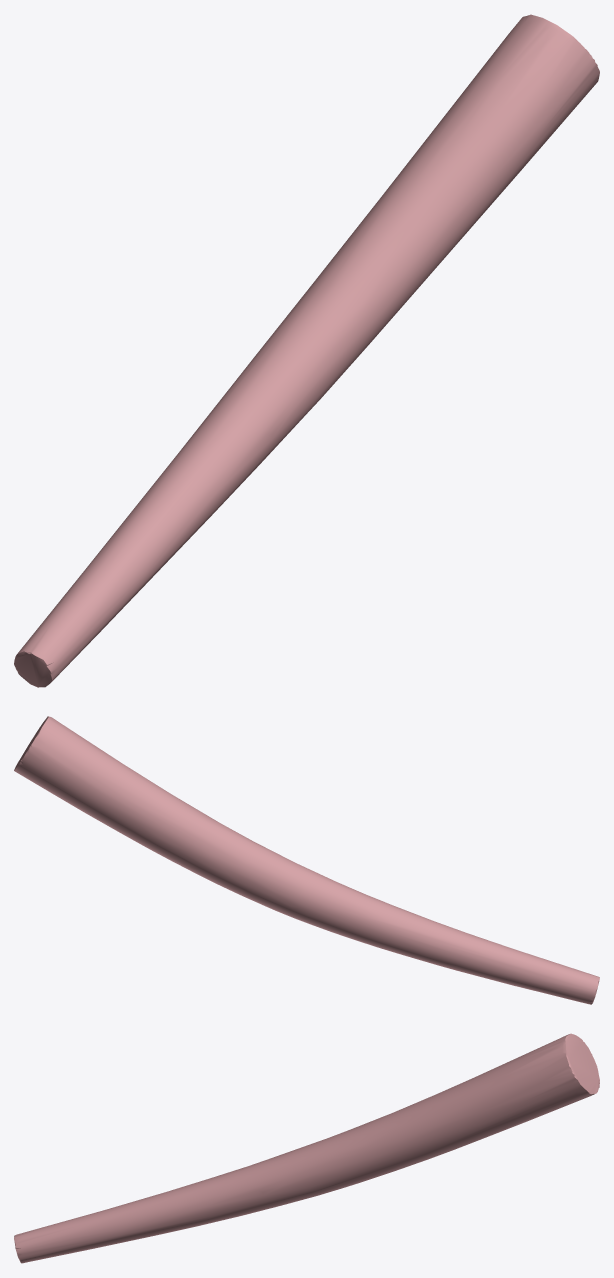
The model's file is fma68321_fj6539.glb.
3 views of the same model, one above another, from view 1: azimuth 30°, elevation 25°; view 2: azimuth 150°, elevation 25°; view 3: azimuth 330°, elevation 25° (orthographic). The views are drawn at different scales.
Visible parts, largest first — view 1: FMA68321_FJ6539; view 2: FMA68321_FJ6539; view 3: FMA68321_FJ6539.
Part boxes in pixels (left/top/right/bottom): FMA68321_FJ6539: left=14, top=14, right=599, bottom=687; FMA68321_FJ6539: left=14, top=716, right=599, bottom=1004; FMA68321_FJ6539: left=14, top=1033, right=599, bottom=1263.
Size of the model in its own units: 0.0377 by 0.0192 by 0.018.
